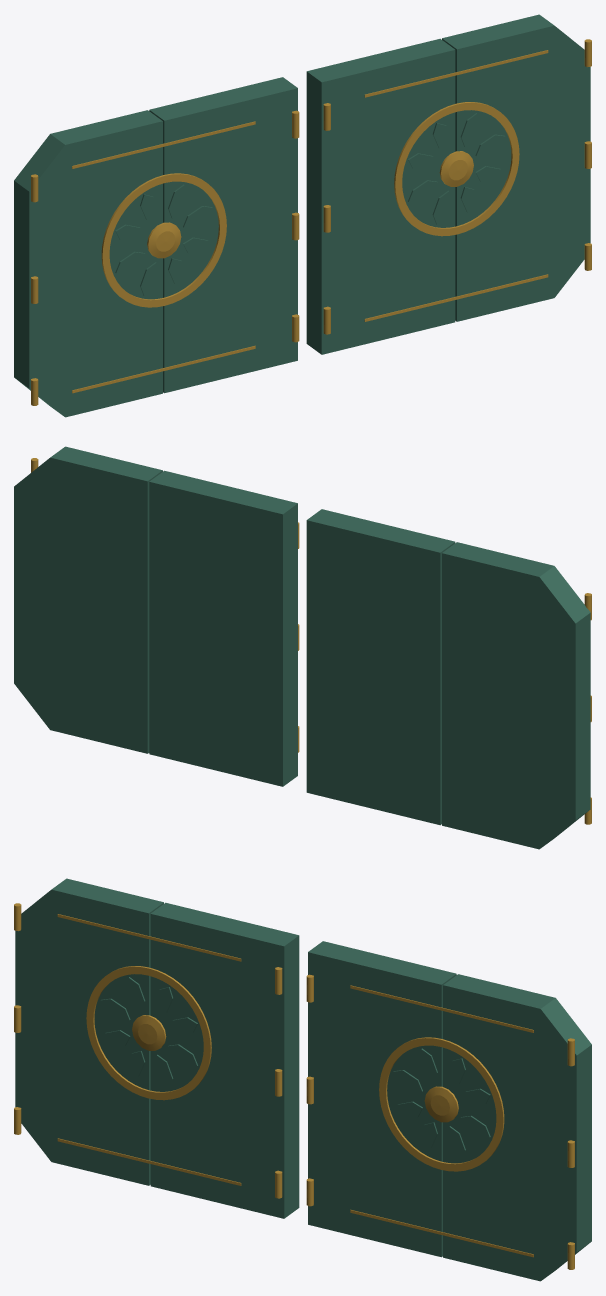
The model's file is hangar2_doors.obj.
The picture shows the model from 3 angles, top to bottom: view 1: azimuth 30°, elevation 25°; view 2: azimuth 150°, elevation 25°; view 3: azimuth 330°, elevation 25°; orthographic projection.
Visible parts, largest first — view 1: hangar2_doors; view 2: hangar2_doors; view 3: hangar2_doors.
Part boxes in pixels (box(x1,y1,x2,y2)): hangar2_doors: box(14, 14, 591, 417); hangar2_doors: box(14, 446, 591, 849); hangar2_doors: box(14, 878, 591, 1281).
Bounding box in the file's own units: 8.54 × 3.96 × 0.4895.
